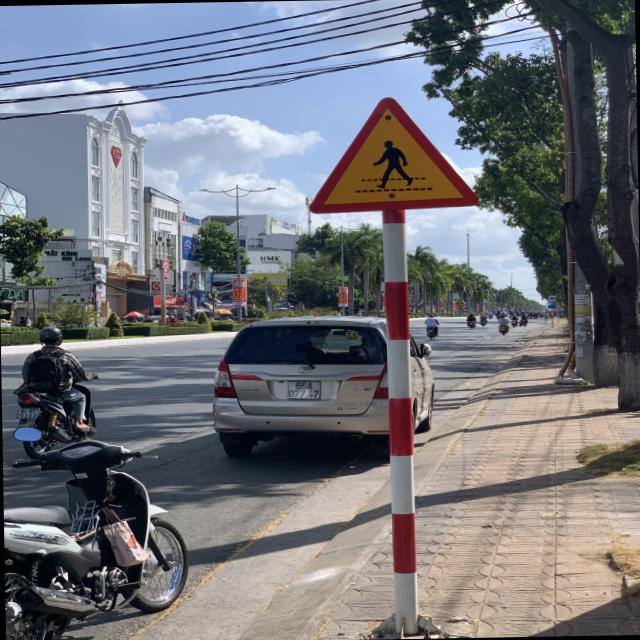Duong_Nguoi_Di_Bo_Sang_Ngang: (307, 94, 479, 214)
